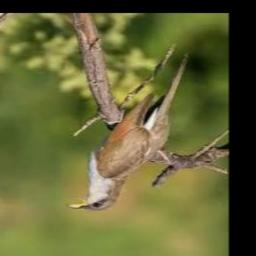Cuckoo: (67, 54, 188, 211)
